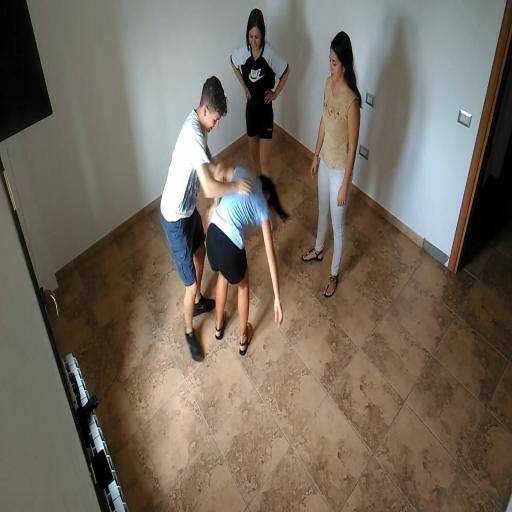violencia: (130, 66, 293, 372)
